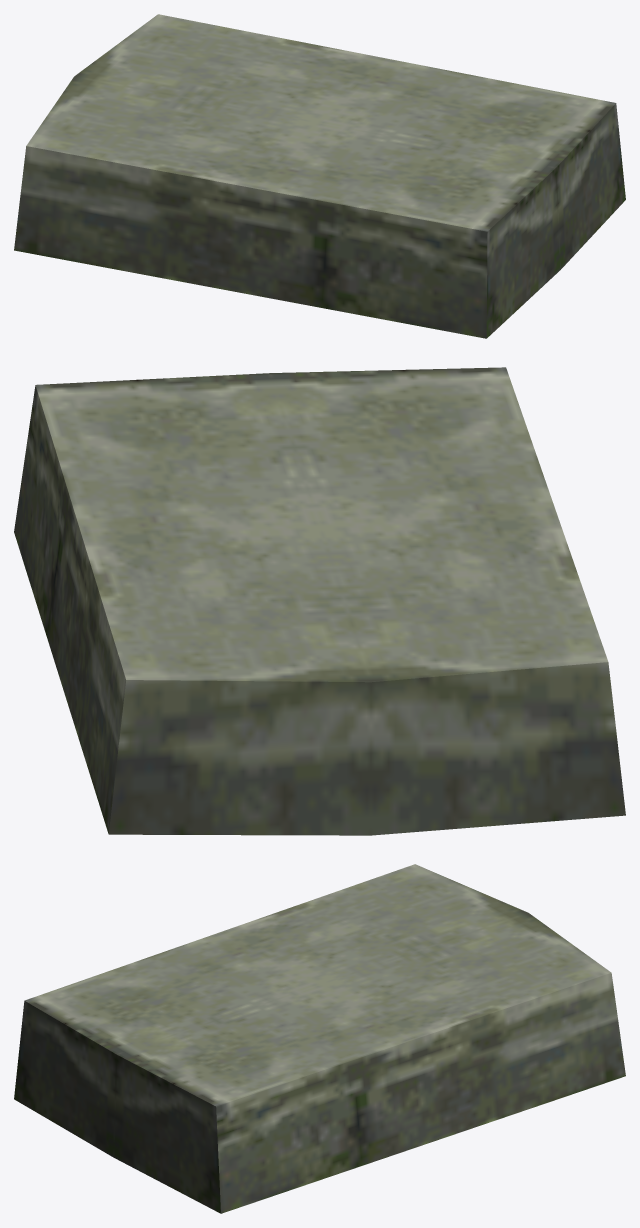
Rendered from xsz_cuishi_6.FBX.
3 renders of one model, top to bottom at view 1: azimuth 30°, elevation 25°; view 2: azimuth 150°, elevation 25°; view 3: azimuth 270°, elevation 25°, orthographic. The views are drawn at different scales.
Parts seen in each view (by area): view 1: xsz_cuishi_6; view 2: xsz_cuishi_6; view 3: xsz_cuishi_6.
Part boxes in pixels (<box>): xsz_cuishi_6: <box>14,14,625,338</box>; xsz_cuishi_6: <box>14,367,625,835</box>; xsz_cuishi_6: <box>14,864,625,1213</box>.
Bounding box in the file's own units: 4.25 × 4.38 × 0.8886.
